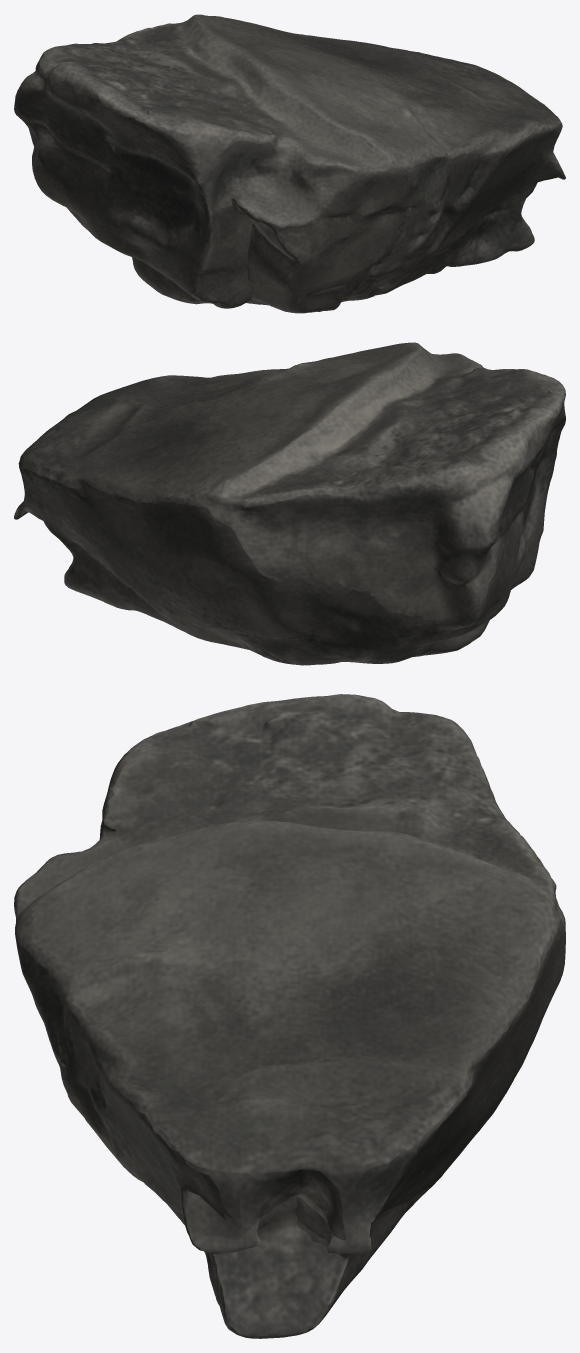
The picture shows the model from 3 angles, top to bottom: view 1: azimuth 30°, elevation 25°; view 2: azimuth 150°, elevation 25°; view 3: azimuth 270°, elevation 25°; orthographic projection. The views are drawn at different scales.
Parts seen in each view (by area): view 1: world; view 2: world; view 3: world.
Boxes of the visible parts, x1,y1,x2,y2 form: world: (14, 14, 565, 313); world: (14, 342, 565, 665); world: (14, 694, 565, 1338).
Bounding box in the file's own units: 3 × 1.58 × 2.21.
Materials: 1 (1 with a texture image).
